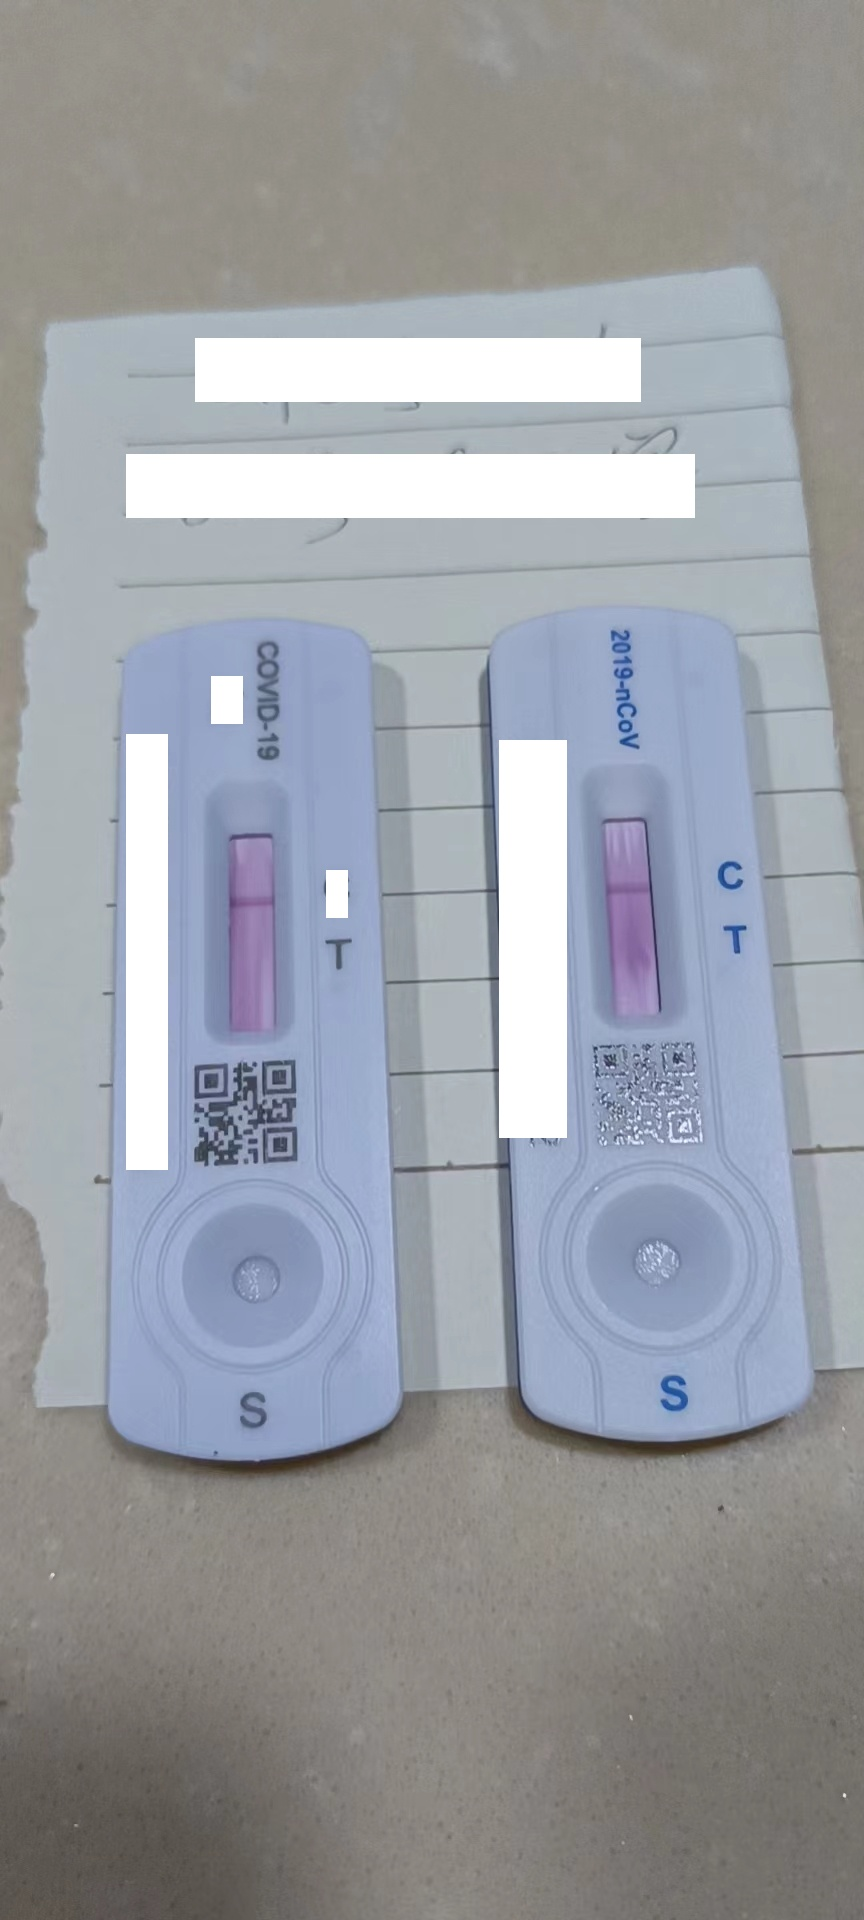negative: (587, 763, 678, 1040), (210, 791, 292, 1057)
positive: (209, 784, 292, 1044)
